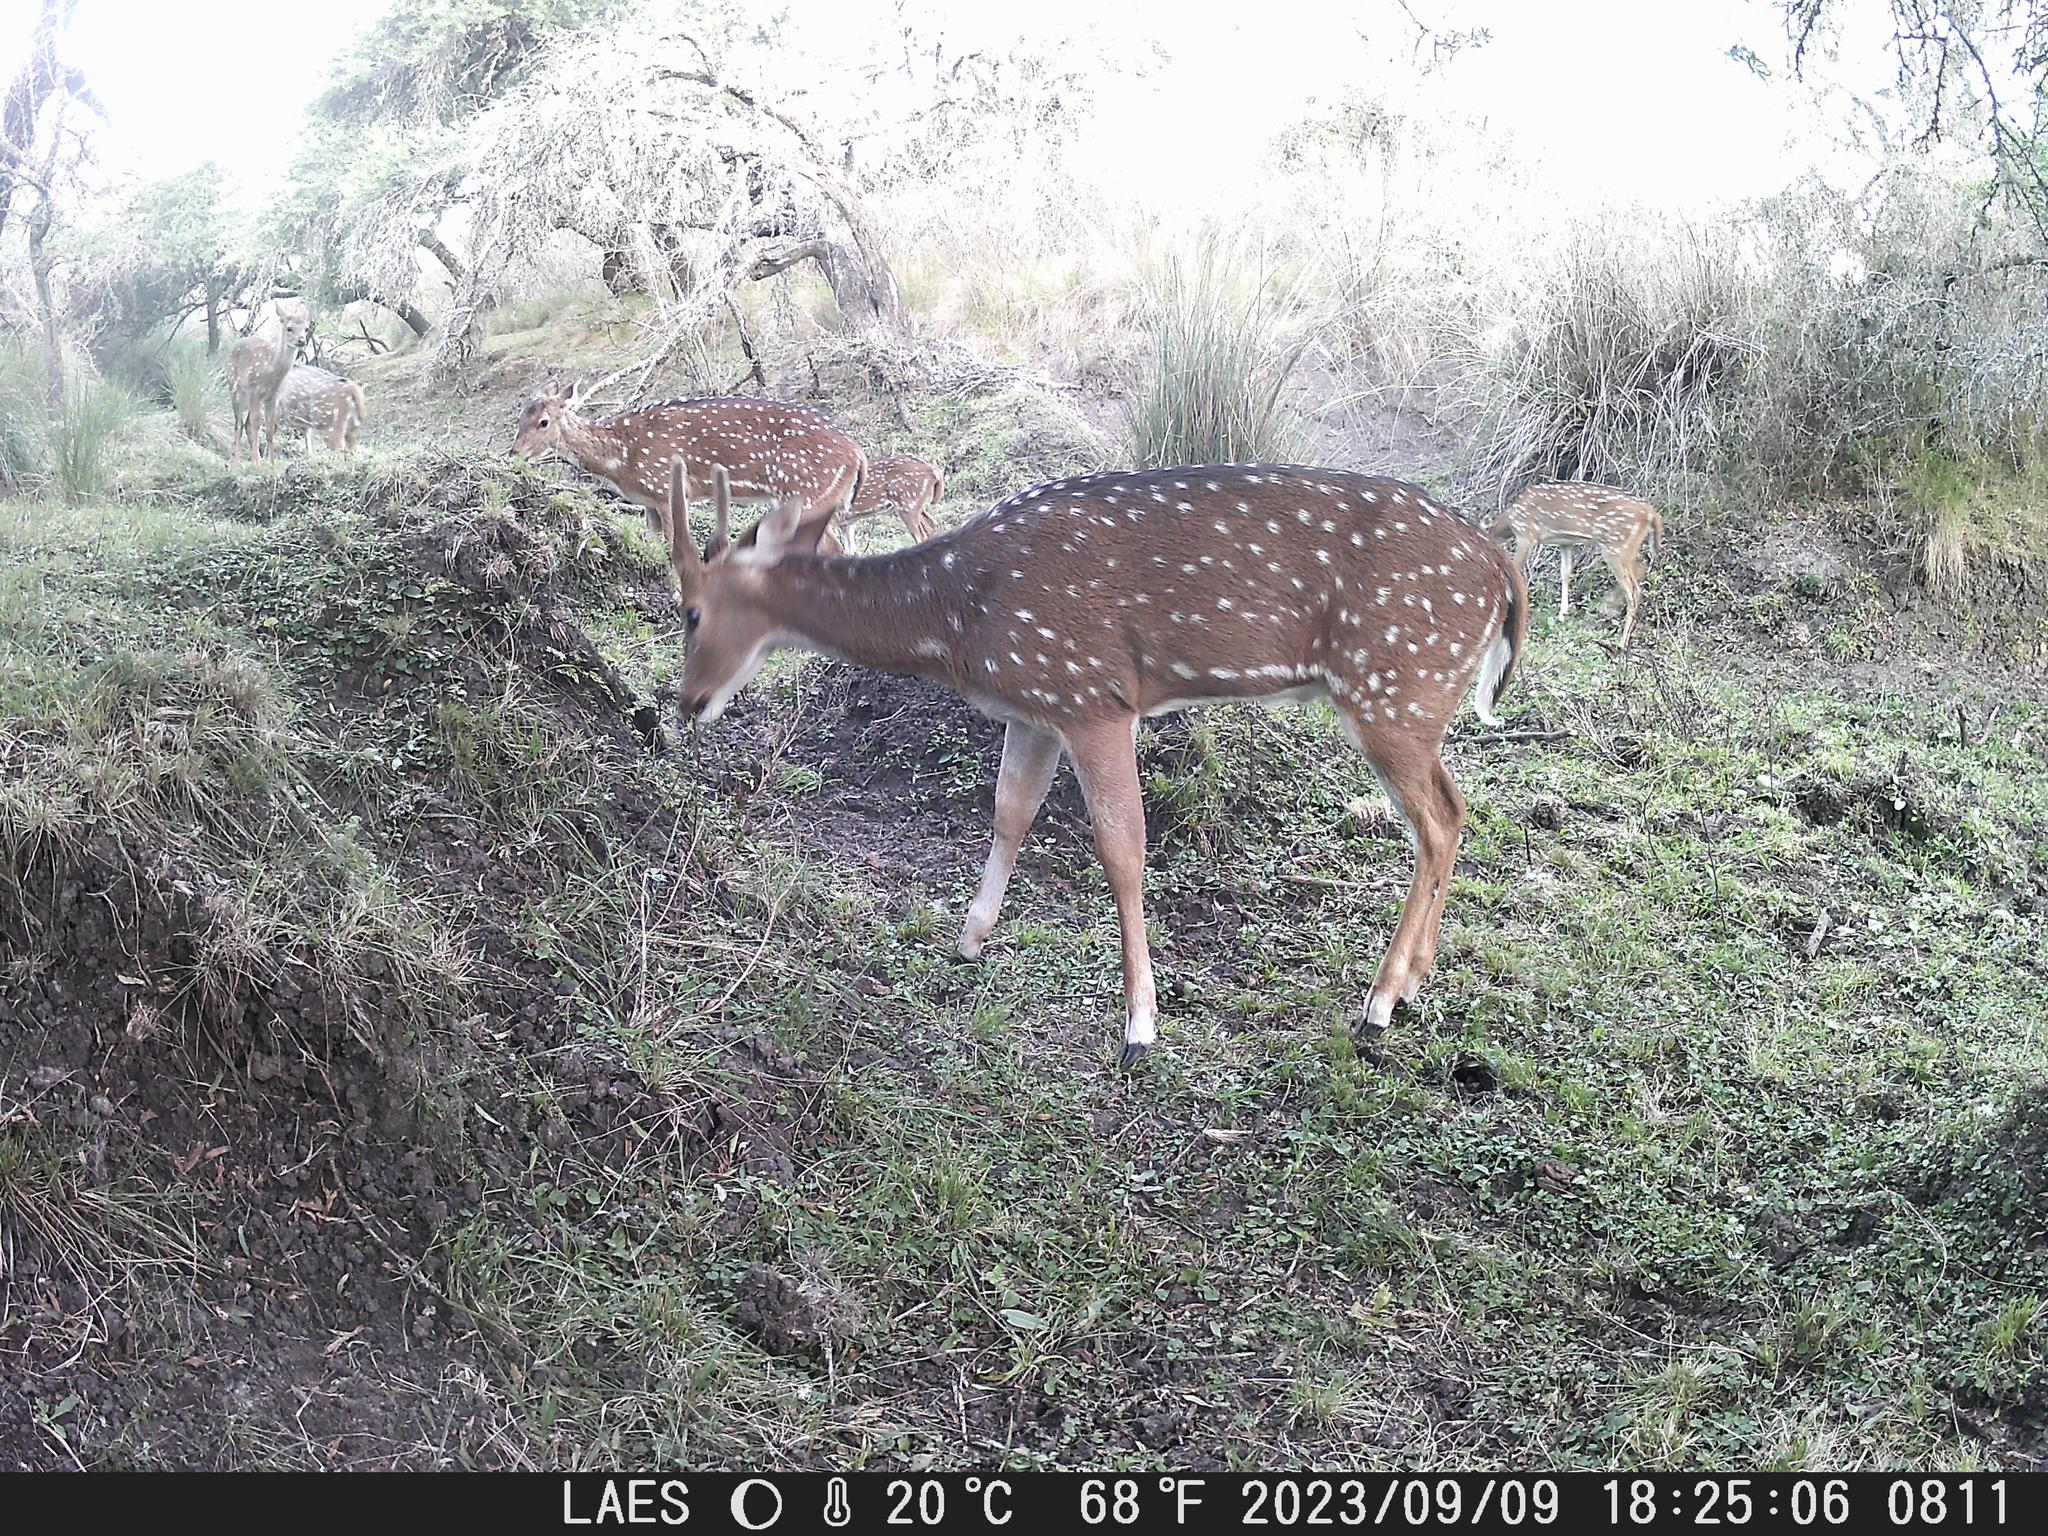Deer: (666, 458, 1526, 1055), (513, 387, 864, 536), (1484, 482, 1661, 645), (223, 298, 311, 458), (1247, 582, 1268, 599)
